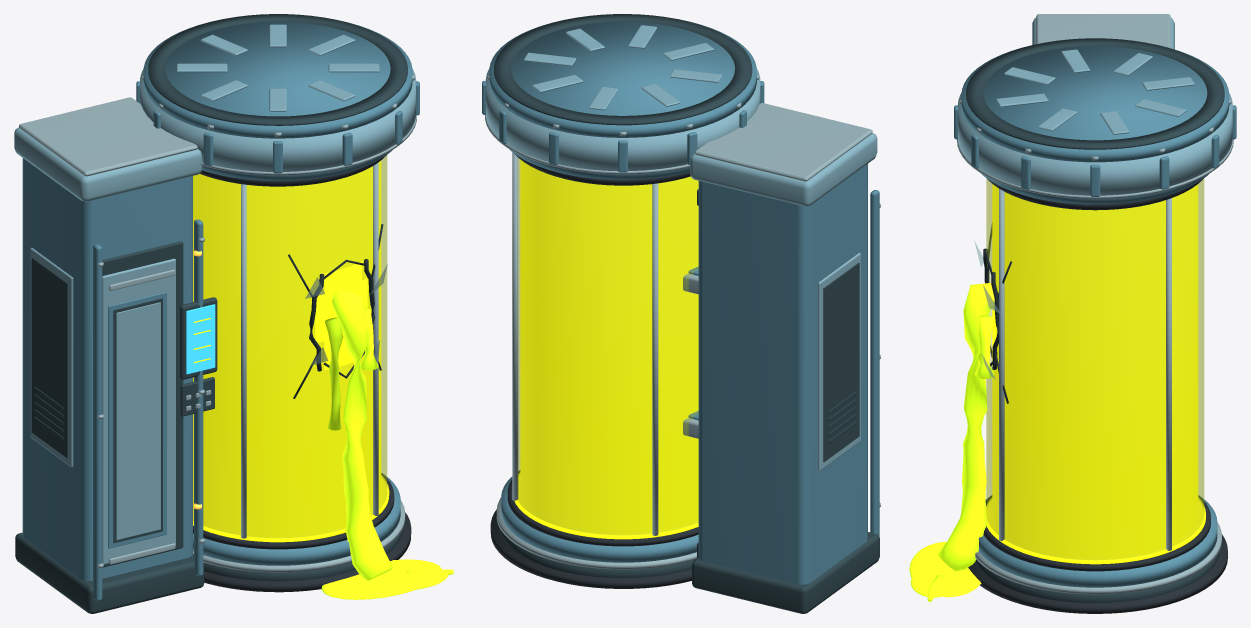
File: BlueTube_CrackedOozing.glb
The picture shows the model from 3 angles, left to right: view 1: azimuth 30°, elevation 25°; view 2: azimuth 150°, elevation 25°; view 3: azimuth 270°, elevation 25°; orthographic projection.
Parts seen in each view (by area): view 1: Tube_Glossy_cobalt_blue_enamel, Tube_Neon_yellow_energy_core, Tube_Cracked_yellow_glass_shell, Tube_Worn_light_blue_panels, Tube_Recessed_graphite, Tube_Polished_steel_edge, Tube_Fluorescent_ooze, Tube_Dark_rubber_gasket, Tube_Diagnostic_screen, Tube_Indicator_neon_yellow, Tube_Glass_fractures, Tube_Thick_residue; view 2: Tube_Glossy_cobalt_blue_enamel, Tube_Cracked_yellow_glass_shell, Tube_Neon_yellow_energy_core, Tube_Recessed_graphite, Tube_Worn_light_blue_panels, Tube_Polished_steel_edge, Tube_Dark_rubber_gasket, Tube_Indicator_neon_yellow; view 3: Tube_Cracked_yellow_glass_shell, Tube_Neon_yellow_energy_core, Tube_Glossy_cobalt_blue_enamel, Tube_Worn_light_blue_panels, Tube_Polished_steel_edge, Tube_Fluorescent_ooze, Tube_Recessed_graphite, Tube_Dark_rubber_gasket, Tube_Indicator_neon_yellow, Tube_Glass_fractures.
Boxes of the visible parts, x1=… form: Tube_Glossy_cobalt_blue_enamel: x1=22, y1=19, x2=419, y2=600; Tube_Neon_yellow_energy_core: x1=193, y1=160, x2=381, y2=535; Tube_Cracked_yellow_glass_shell: x1=193, y1=155, x2=387, y2=537; Tube_Worn_light_blue_panels: x1=14, y1=24, x2=416, y2=564; Tube_Recessed_graphite: x1=15, y1=14, x2=407, y2=613; Tube_Polished_steel_edge: x1=19, y1=74, x2=416, y2=572; Tube_Fluorescent_ooze: x1=321, y1=288, x2=453, y2=599; Tube_Dark_rubber_gasket: x1=193, y1=155, x2=411, y2=592; Tube_Diagnostic_screen: x1=186, y1=304, x2=215, y2=374; Tube_Indicator_neon_yellow: x1=193, y1=318, x2=389, y2=542; Tube_Glass_fractures: x1=288, y1=224, x2=383, y2=398; Tube_Thick_residue: x1=325, y1=317, x2=343, y2=430; Tube_Glossy_cobalt_blue_enamel: x1=482, y1=20, x2=879, y2=584; Tube_Cracked_yellow_glass_shell: x1=517, y1=157, x2=698, y2=534; Tube_Neon_yellow_energy_core: x1=520, y1=159, x2=698, y2=532; Tube_Recessed_graphite: x1=494, y1=14, x2=879, y2=613; Tube_Worn_light_blue_panels: x1=485, y1=25, x2=877, y2=470; Tube_Polished_steel_edge: x1=485, y1=74, x2=880, y2=569; Tube_Dark_rubber_gasket: x1=490, y1=153, x2=698, y2=588; Tube_Indicator_neon_yellow: x1=514, y1=473, x2=698, y2=539; Tube_Cracked_yellow_glass_shell: x1=986, y1=178, x2=1204, y2=559; Tube_Neon_yellow_energy_core: x1=992, y1=184, x2=1198, y2=557; Tube_Glossy_cobalt_blue_enamel: x1=954, y1=45, x2=1236, y2=587; Tube_Worn_light_blue_panels: x1=957, y1=18, x2=1232, y2=195; Tube_Polished_steel_edge: x1=956, y1=14, x2=1233, y2=594; Tube_Fluorescent_ooze: x1=909, y1=283, x2=994, y2=601; Tube_Recessed_graphite: x1=966, y1=38, x2=1224, y2=602; Tube_Dark_rubber_gasket: x1=968, y1=178, x2=1227, y2=613; Tube_Indicator_neon_yellow: x1=986, y1=497, x2=1205, y2=564; Tube_Glass_fractures: x1=983, y1=223, x2=1012, y2=403.
Size of the model in its own units: 9.44 by 12.18 by 7.68.
